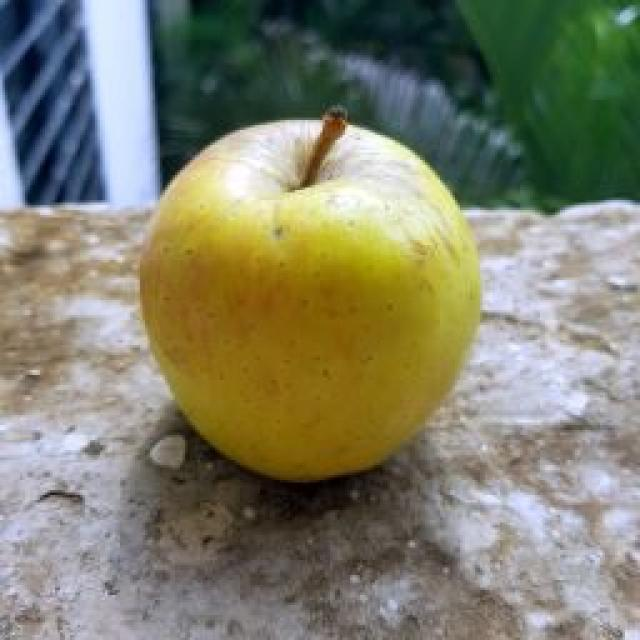Good_Apple: (140, 109, 480, 481)
